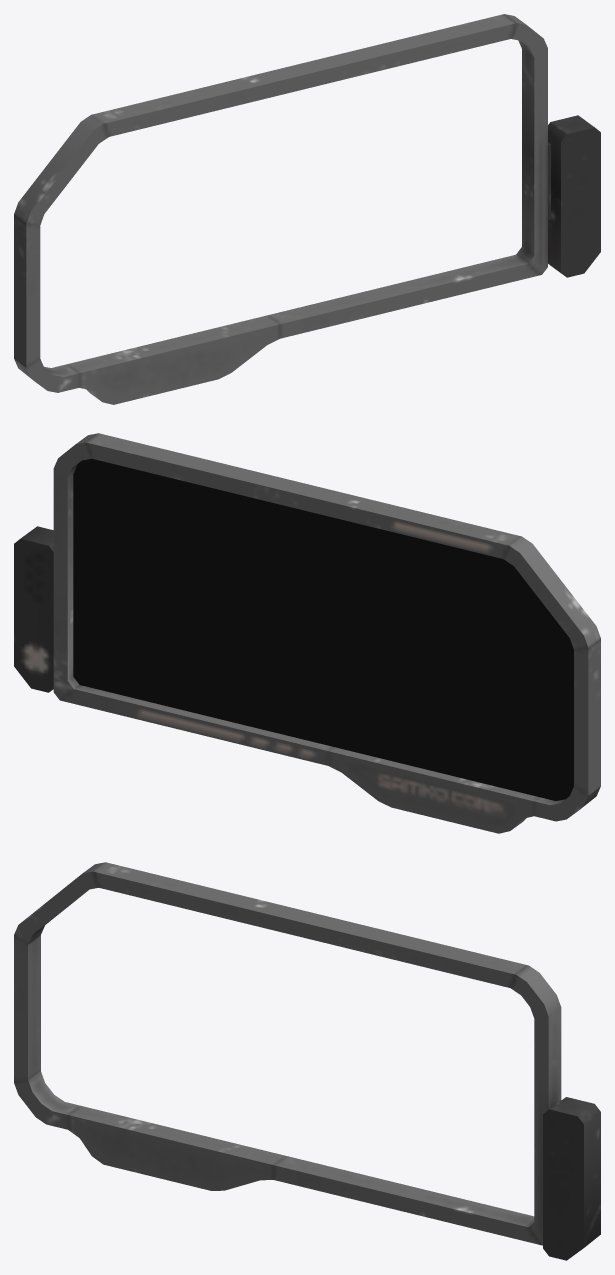
File: SM_Holoscreen_F.FBX
3 renders of one model, top to bottom at view 1: azimuth 30°, elevation 25°; view 2: azimuth 150°, elevation 25°; view 3: azimuth 330°, elevation 25°, orthographic. The views are drawn at different scales.
Parts seen in each view (by area): view 1: SM_Holoscreen_F; view 2: SM_Holoscreen_F; view 3: SM_Holoscreen_F.
Boxes of the visible parts, x1=… form: SM_Holoscreen_F: x1=14, y1=14, x2=600, y2=404; SM_Holoscreen_F: x1=14, y1=433, x2=600, y2=833; SM_Holoscreen_F: x1=14, y1=862, x2=600, y2=1260.
Bounding box in the file's own units: 65.51 × 31.4 × 4.34.
1 material, 1 textured.
